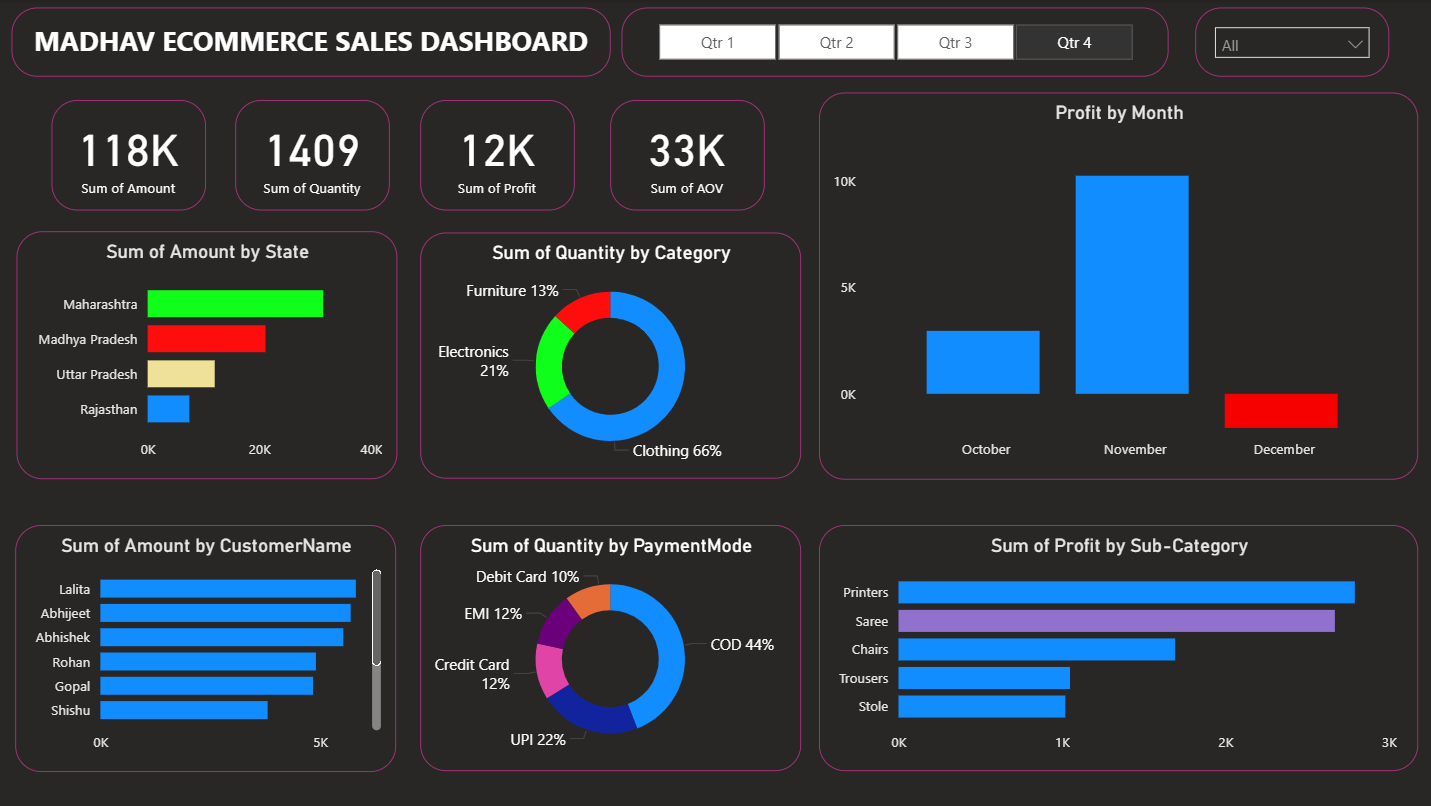

This screenshot's page, from the dashboard's own definition file:
{"tool":"powerbi","page":{"name":"Page 1","canvas":[1280,720],"ordinal":0},"visuals":[{"type":"textbox","box":[11,6.9,533.8,61.7],"z":0},{"type":"columnChart","title":"Profit by Month","fields":{"Category":["Orders.Order Date.Variation.Date Hierarchy.Month"],"Y":["Details.Profit"]},"box":[730,82.3,533.8,344.4],"z":1000},{"type":"barChart","fields":{"Category":["Details.Sub-Category"],"Y":["Details.Profit"]},"box":[730,467.9,533.8,219.6],"z":2000},{"type":"donutChart","fields":{"Category":["Details.Category"],"Y":["Details.Quantity"]},"box":[374.6,207.2,338.9,219.6],"z":3000},{"type":"donutChart","fields":{"Y":["Details.Quantity"],"Category":["Details.PaymentMode"]},"box":[374.6,467.9,338.9,219.6],"z":4000},{"type":"card","fields":{"Values":["Details.Amount"]},"box":[46.7,89.2,137.2,98.8],"z":5000},{"type":"card","fields":{"Values":["Details.Quantity"]},"box":[209.9,89.2,137.2,98.8],"z":6000},{"type":"card","fields":{"Values":["Details.Profit"]},"box":[374.6,89.2,137.2,98.8],"z":7000},{"type":"card","fields":{"Values":["Details.AOV"]},"box":[544.8,89.2,137.2,98.8],"z":8000},{"type":"barChart","fields":{"Category":["Orders.State"],"Y":["Details.Amount"]},"box":[15.1,205.8,338.9,220.9],"z":9000},{"type":"clusteredBarChart","fields":{"Category":["Orders.CustomerName"],"Y":["Details.Amount"]},"box":[15,468,339,220],"z":10000},{"type":"slicer","fields":{"Values":["Orders.Order Date.Variation.Date Hierarchy.Quarter"]},"box":[554.4,6.9,487.1,61.7],"z":11000},{"type":"slicer","fields":{"Values":["Orders.State"]},"box":[1064.8,6.9,172.9,61.7],"z":12000}]}

Visuals, with their boxes in screenshot pixels (x1, y1, x2, y2), scaled from the page's 1280x720 canvas onto the 1431x806 screenshot:
textbox: 12 8 609 77
"Profit by Month" columnChart: 816 92 1413 478
barChart - Details.Sub-Category x Details.Profit: 816 524 1413 770
donutChart - Details.Category x Details.Quantity: 419 232 798 478
donutChart - Details.Quantity x Details.PaymentMode: 419 524 798 770
card - Details.Amount: 52 100 206 210
card - Details.Quantity: 235 100 388 210
card - Details.Profit: 419 100 572 210
card - Details.AOV: 609 100 762 210
barChart - Orders.State x Details.Amount: 17 230 396 478
clusteredBarChart - Orders.CustomerName x Details.Amount: 17 524 396 770
slicer - Orders.Order Date.Variation.Date Hierarchy.Quarter: 620 8 1164 77
slicer - Orders.State: 1190 8 1384 77
